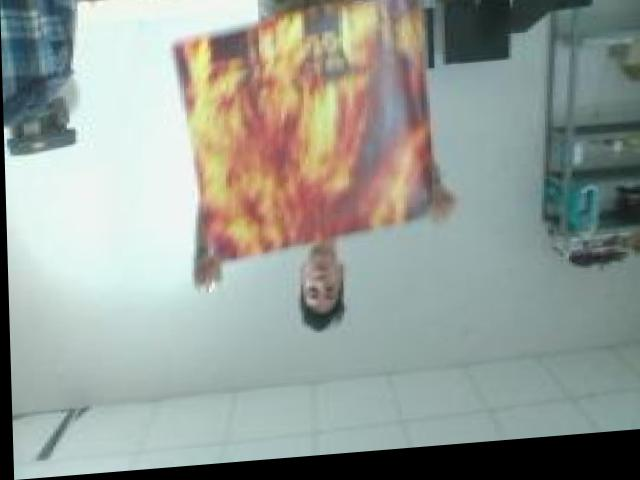fire-poster: (170, 0, 444, 272)
